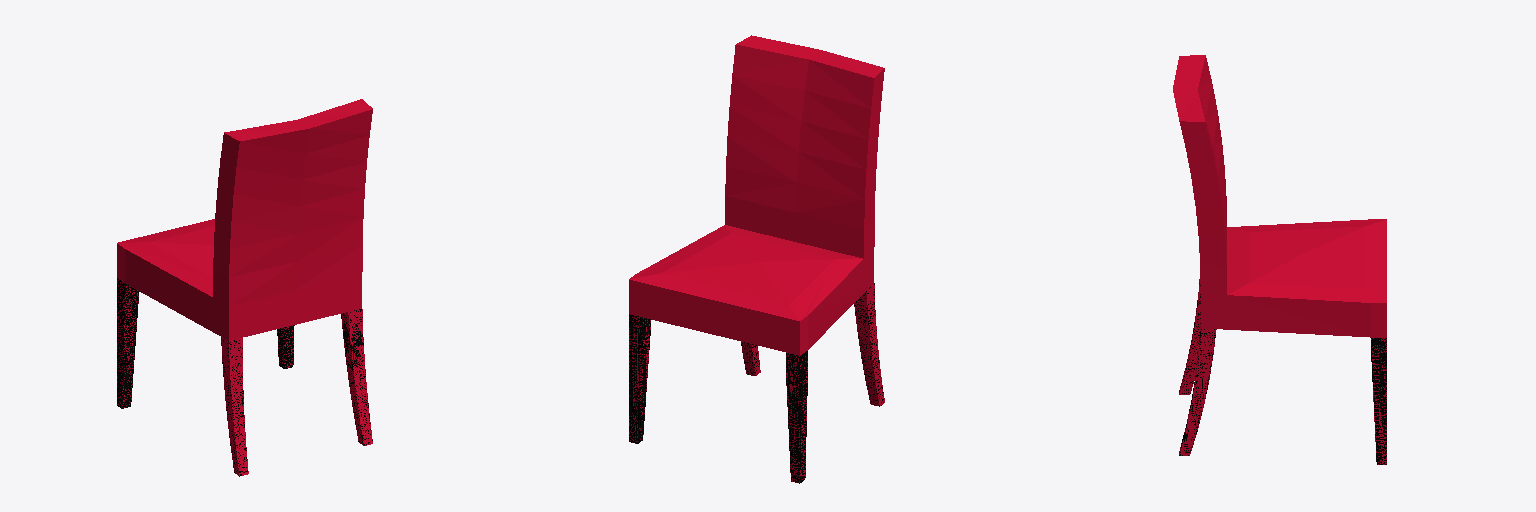
The picture shows the model from 3 angles: view 1: azimuth 30°, elevation 25°; view 2: azimuth 150°, elevation 25°; view 3: azimuth 270°, elevation 25°; orthographic projection.
Parts seen in each view (by area): view 1: mesh11_mesh11-geometry, mesh1_mesh1-geometry, mesh6_mesh6-geometry, mesh3_mesh3-geometry, mesh8_mesh8-geometry; view 2: mesh11_mesh11-geometry, mesh3_mesh3-geometry, mesh8_mesh8-geometry, mesh1_mesh1-geometry; view 3: mesh11_mesh11-geometry, mesh6_mesh6-geometry, mesh8_mesh8-geometry, mesh1_mesh1-geometry.
Boxes of the visible parts, box(x1,y1,x2,y2) form: mesh11_mesh11-geometry: box(117, 99, 372, 340); mesh1_mesh1-geometry: box(221, 337, 248, 476); mesh6_mesh6-geometry: box(341, 309, 372, 445); mesh3_mesh3-geometry: box(117, 278, 138, 408); mesh8_mesh8-geometry: box(277, 325, 294, 368); mesh11_mesh11-geometry: box(629, 35, 884, 355); mesh3_mesh3-geometry: box(786, 351, 807, 483); mesh8_mesh8-geometry: box(629, 314, 650, 443); mesh1_mesh1-geometry: box(854, 283, 884, 406); mesh11_mesh11-geometry: box(1173, 55, 1386, 337); mesh6_mesh6-geometry: box(1179, 323, 1216, 455); mesh8_mesh8-geometry: box(1371, 338, 1386, 464); mesh1_mesh1-geometry: box(1179, 279, 1200, 394).
Size of the model in its own units: 0.4206 by 0.7845 by 0.4557.
Materials: 3 (1 with a texture image).